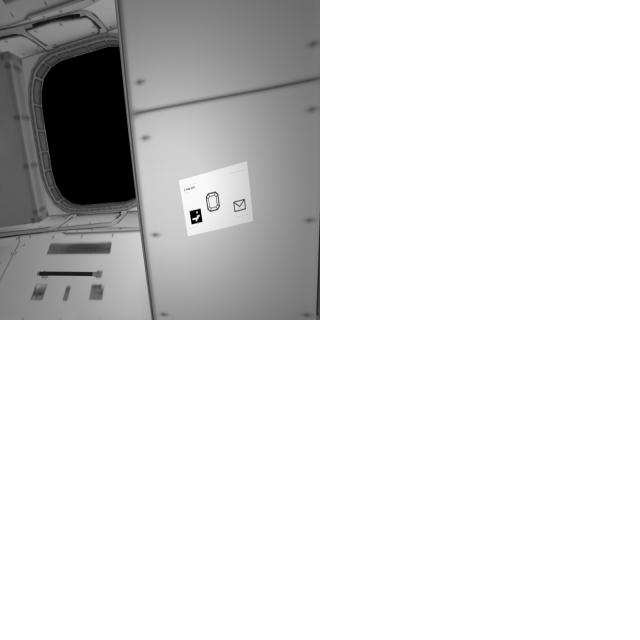emerald: (205, 189, 223, 215)
letter: (233, 196, 250, 214)
